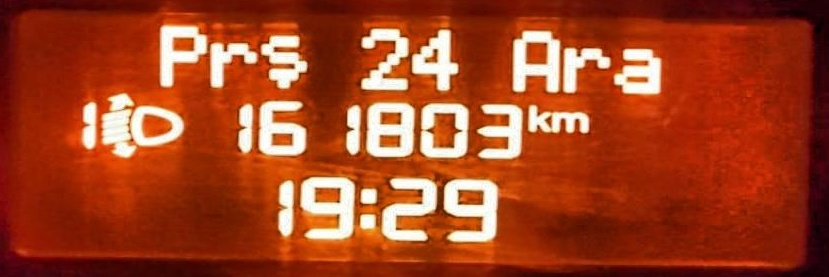0: (419, 100, 467, 160)
1: (271, 171, 296, 247), (72, 93, 98, 164), (341, 98, 364, 161), (232, 97, 255, 156)
2: (380, 173, 433, 242), (356, 24, 407, 90)
3: (480, 100, 521, 163)
4: (414, 26, 463, 91)
6: (258, 97, 307, 156)
8: (366, 97, 415, 158)
9: (440, 174, 499, 242), (302, 173, 352, 240)
X: (151, 18, 202, 87), (509, 27, 559, 90), (610, 42, 665, 97), (260, 29, 309, 89), (207, 37, 253, 90), (563, 42, 605, 89), (356, 177, 378, 234), (551, 107, 591, 134), (527, 102, 547, 134)
